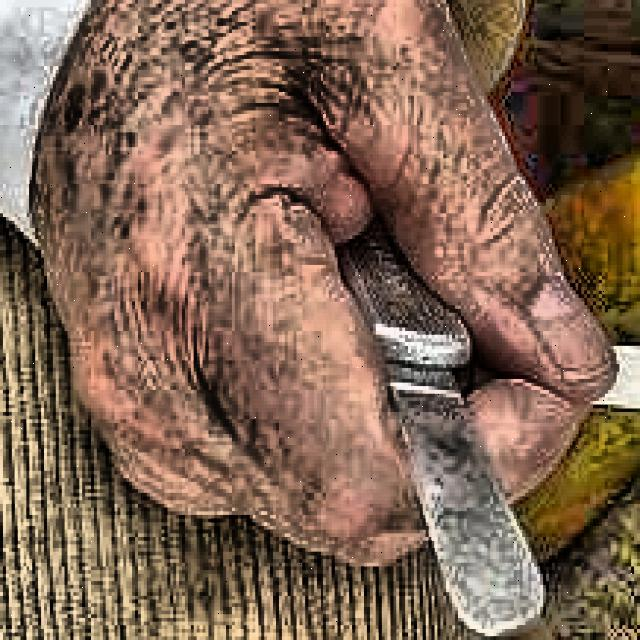knife: (344, 213, 543, 640)
